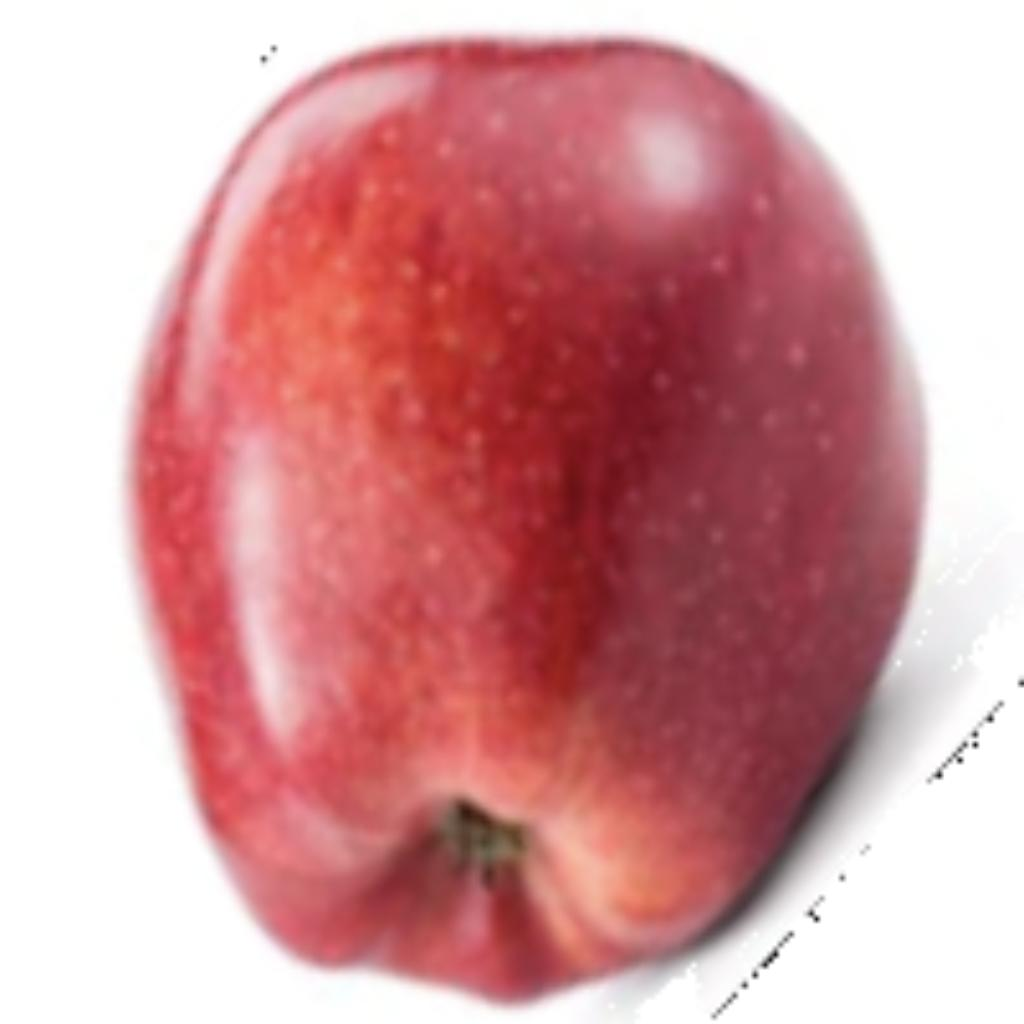apple: (108, 20, 1004, 1019)
